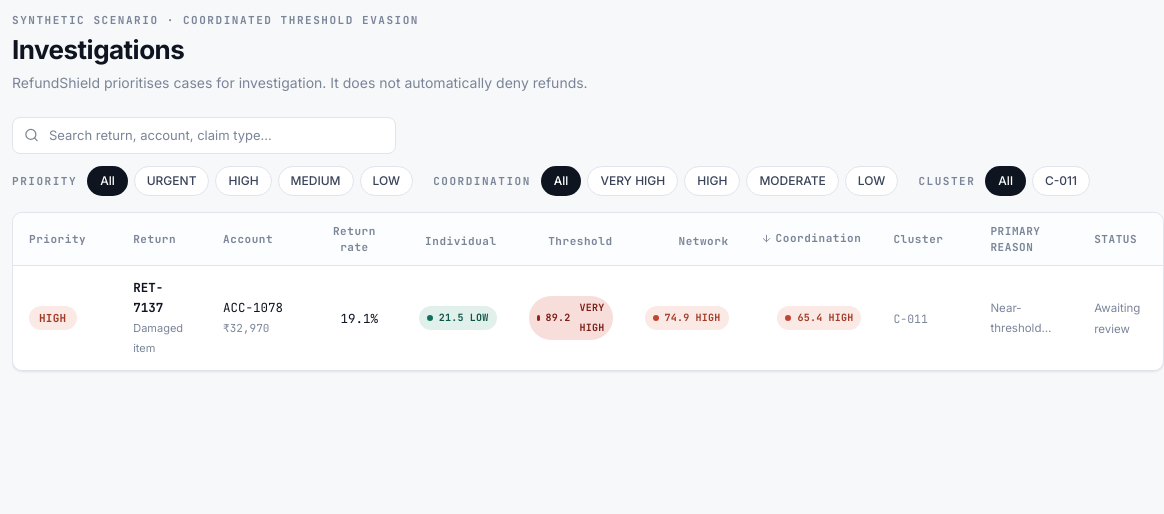
it: Investigation queue › searches by account id
Check: the text "RET-7137" is shown, box [133,279,163,316]
Type "ACC-9999" into the field named "filter investigations" at x=204, y=135, box [12,116,396,154]
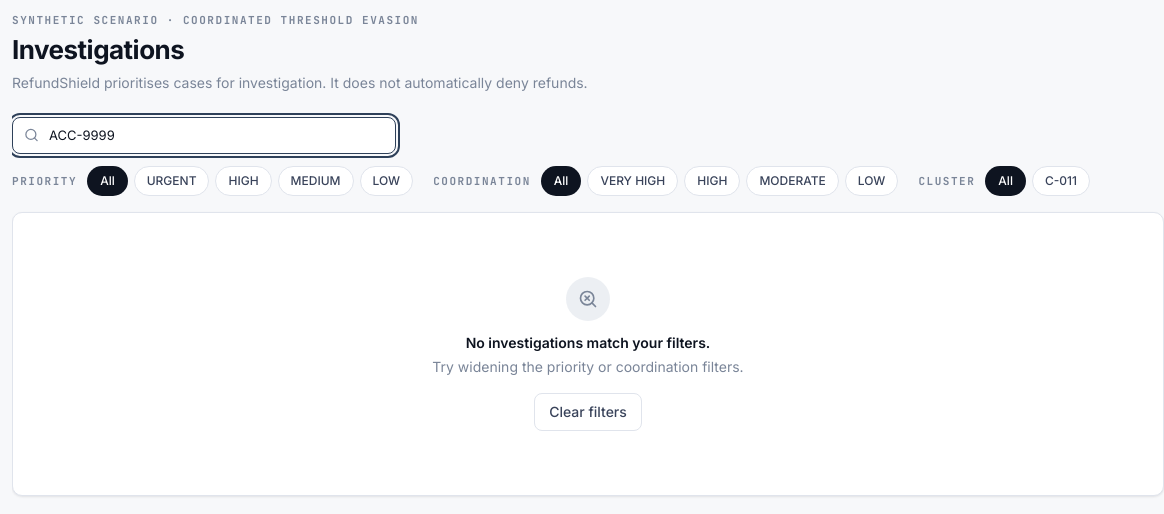
Check: the heading "No investigations match your filters." is shown, box [466,334,710,351]
